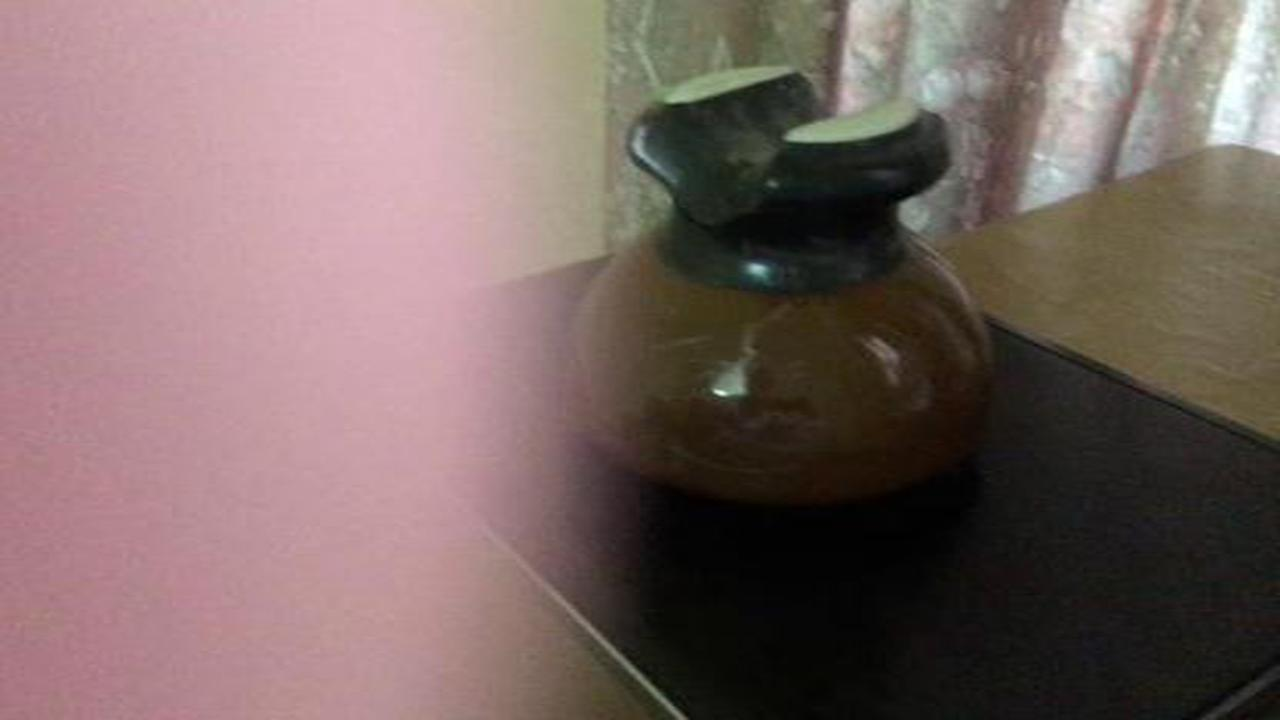insulator_pin: (542, 52, 1037, 527)
